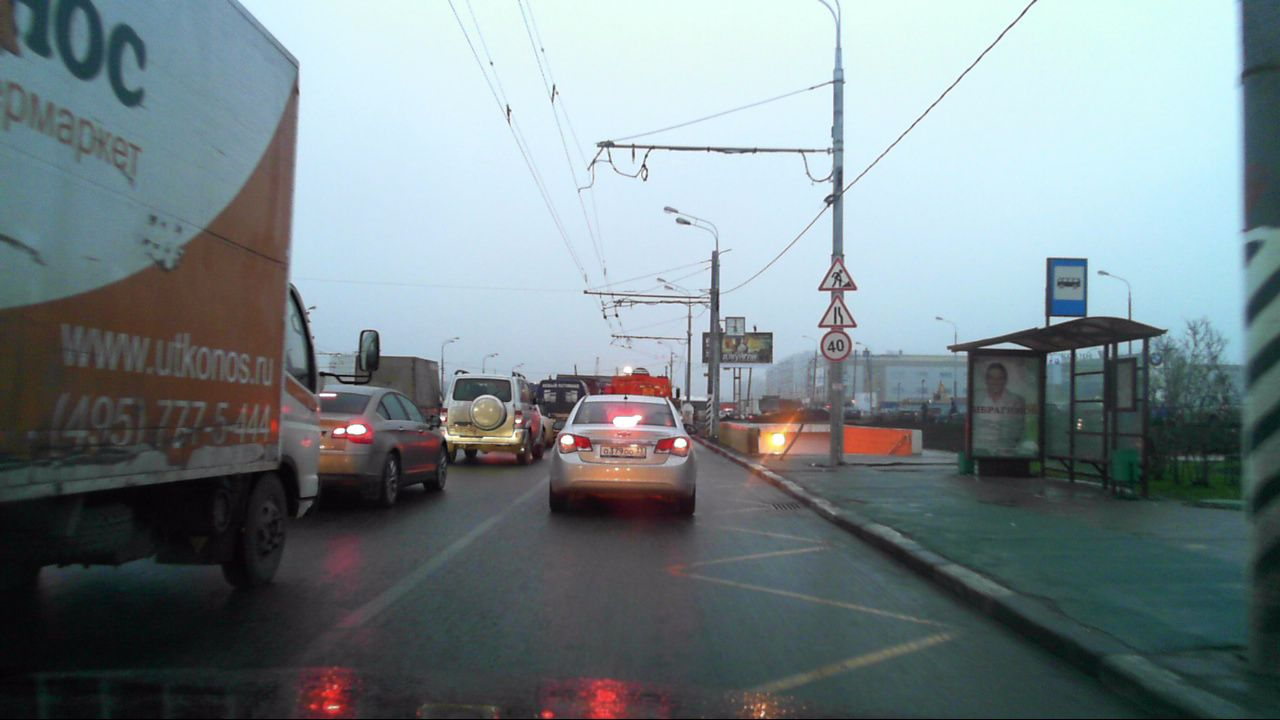speed_warning_40: (821, 329, 851, 359)
